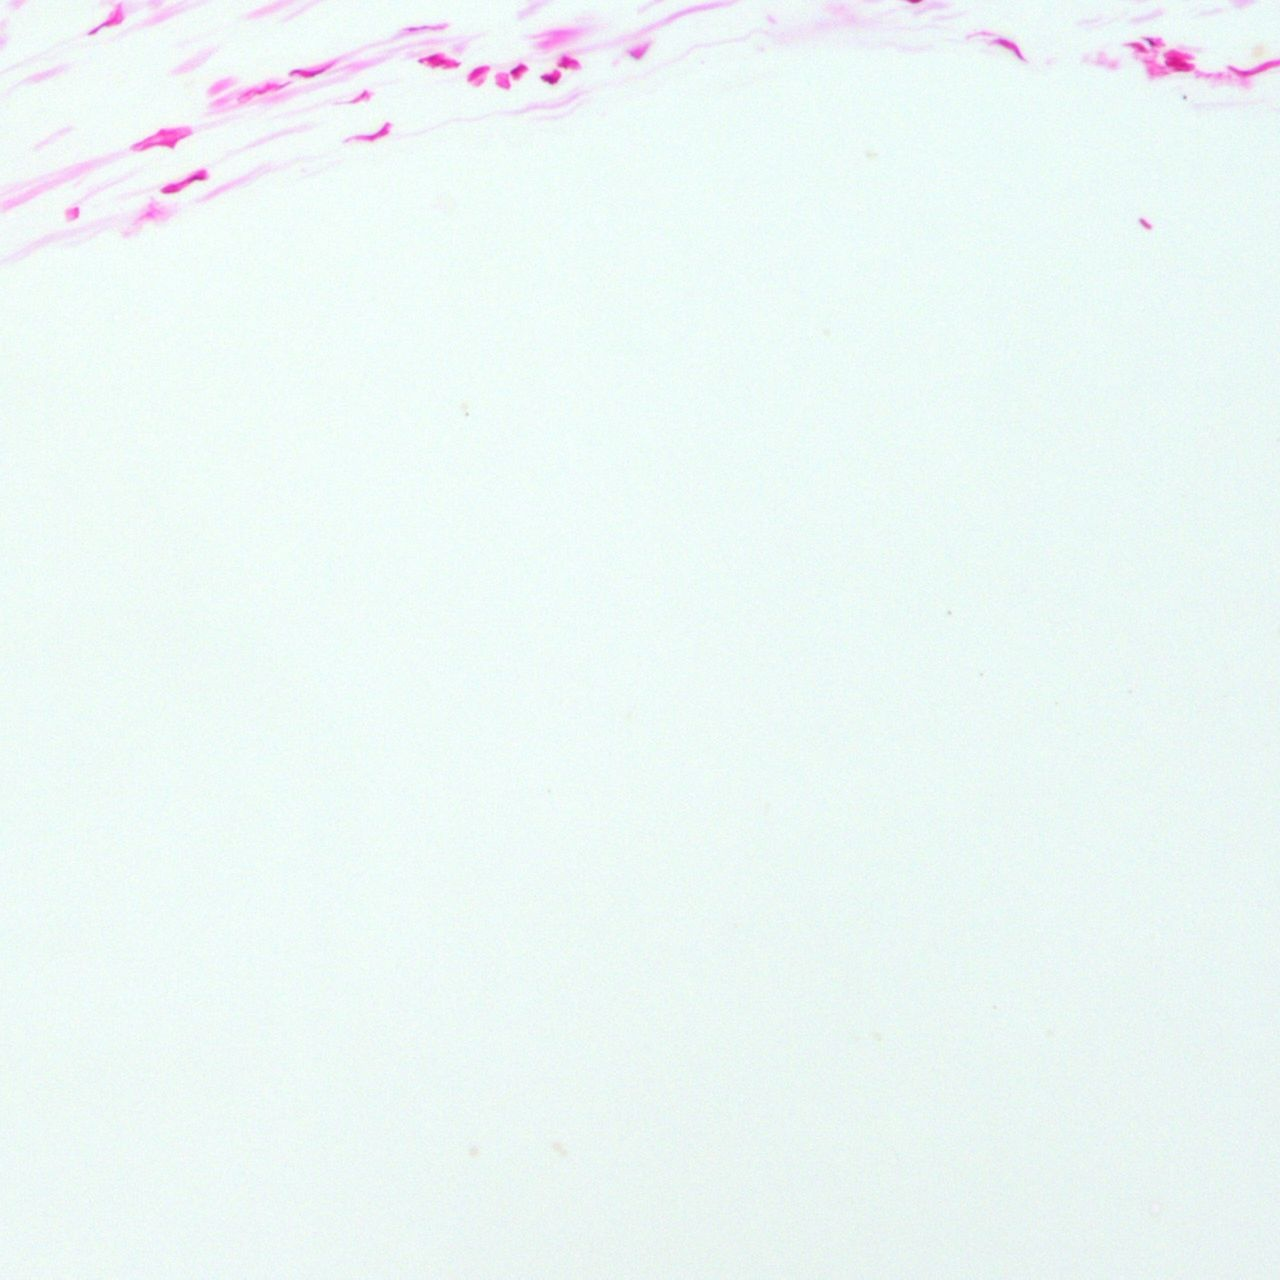dust: (1182, 94, 1187, 101)
nucleus-FG: (129, 120, 195, 162), (343, 120, 394, 151), (159, 166, 209, 197), (992, 34, 1034, 64), (86, 8, 125, 38), (1228, 56, 1280, 79), (288, 60, 331, 82), (417, 52, 459, 70), (509, 61, 531, 81), (465, 63, 489, 82), (1164, 59, 1194, 72), (539, 69, 561, 86), (557, 54, 580, 69), (1125, 40, 1149, 53)
